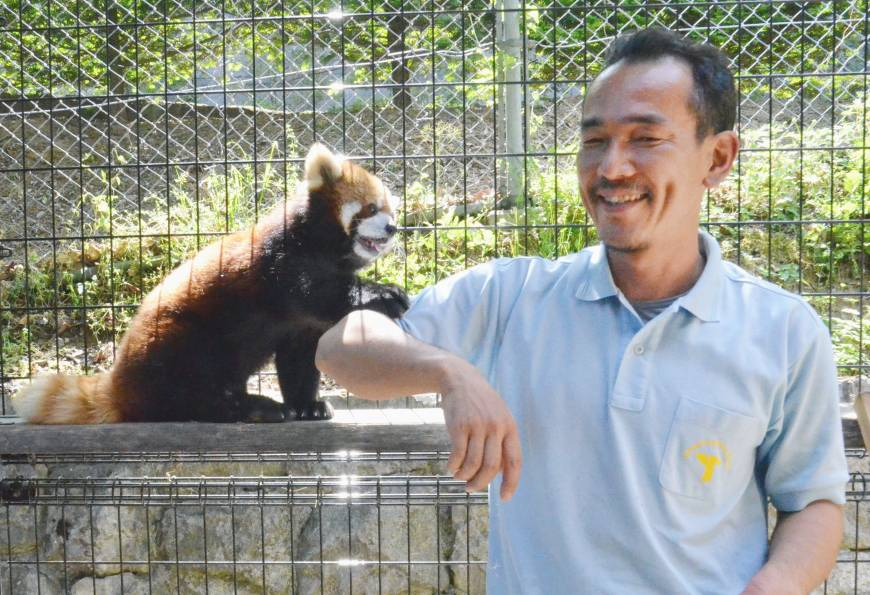red_panda: (48, 147, 416, 423)
